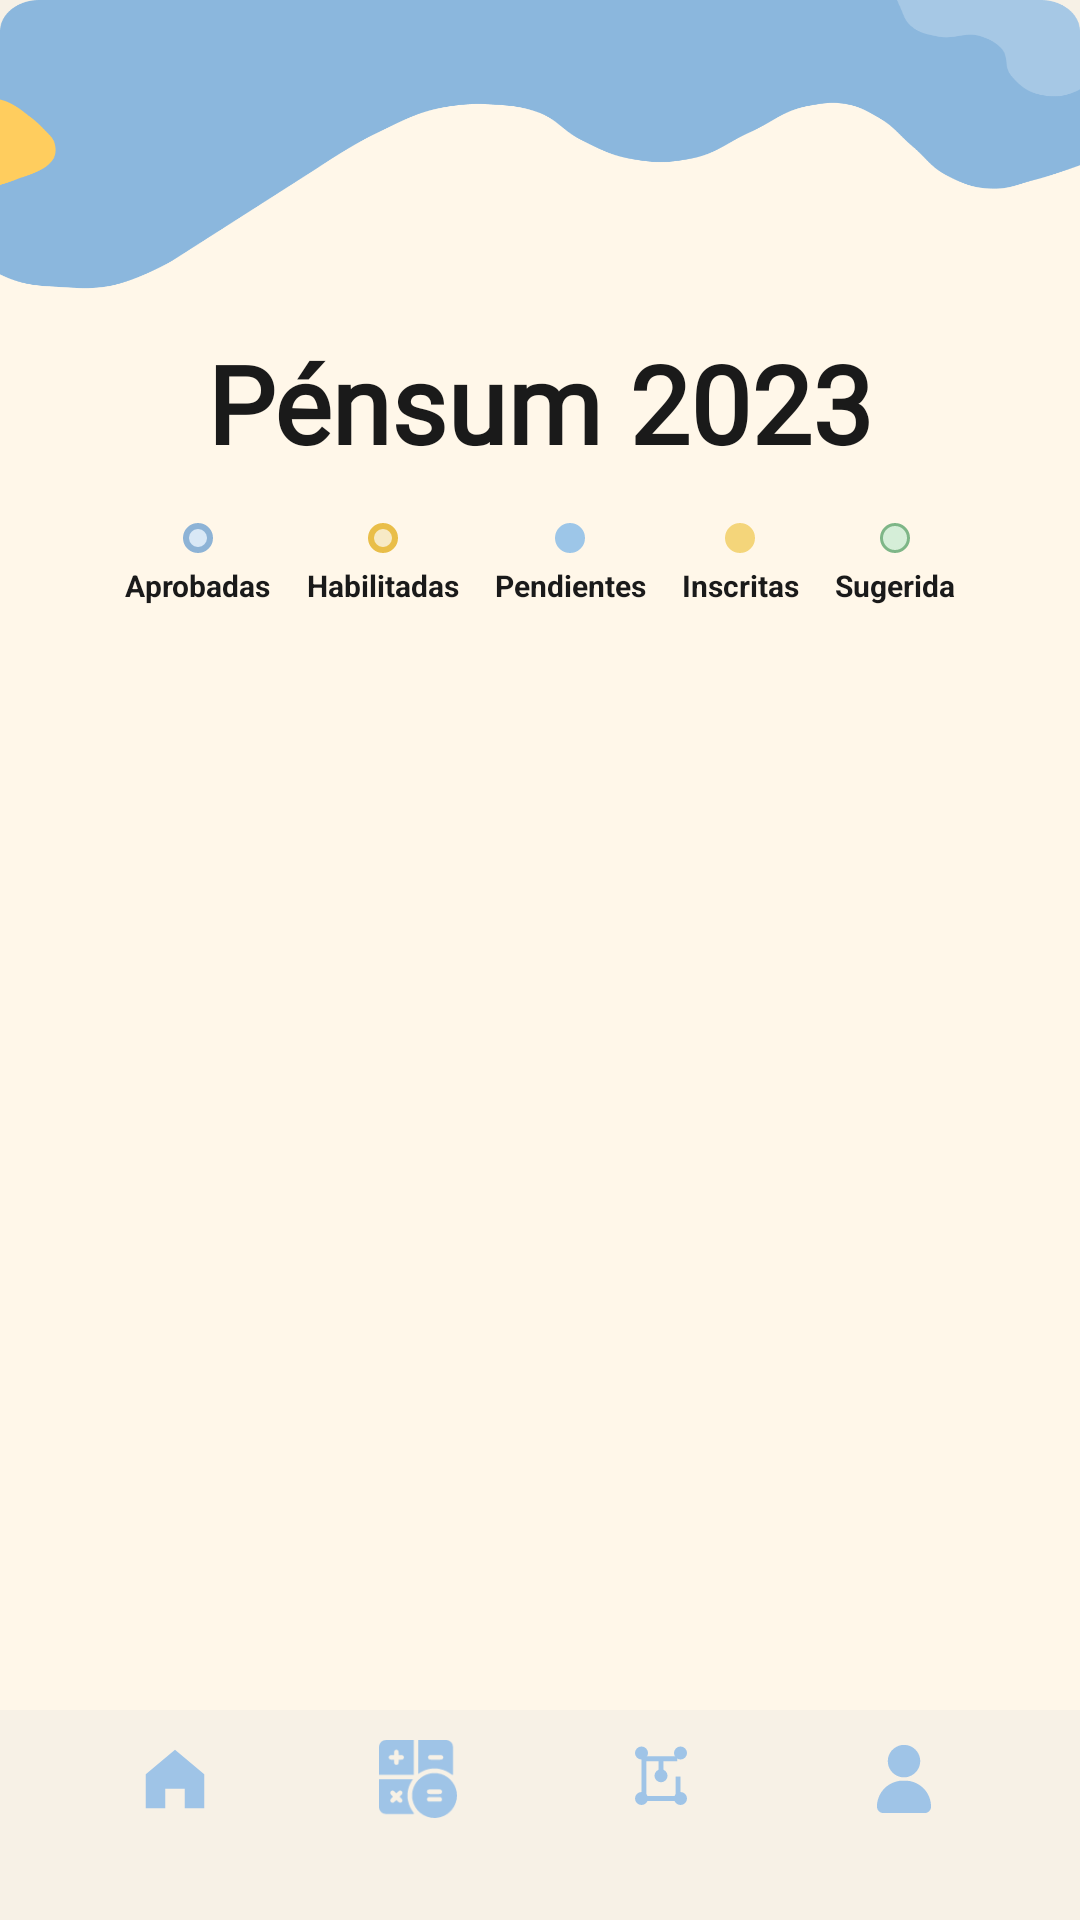

Icons on this 1080×1920 Android screen, each with its box as [left=x1, top=y1, right=x2, bottom=y2]:
Inicio: [left=146, top=1750, right=204, bottom=1808]
Perfil: [left=877, top=1745, right=931, bottom=1813]
